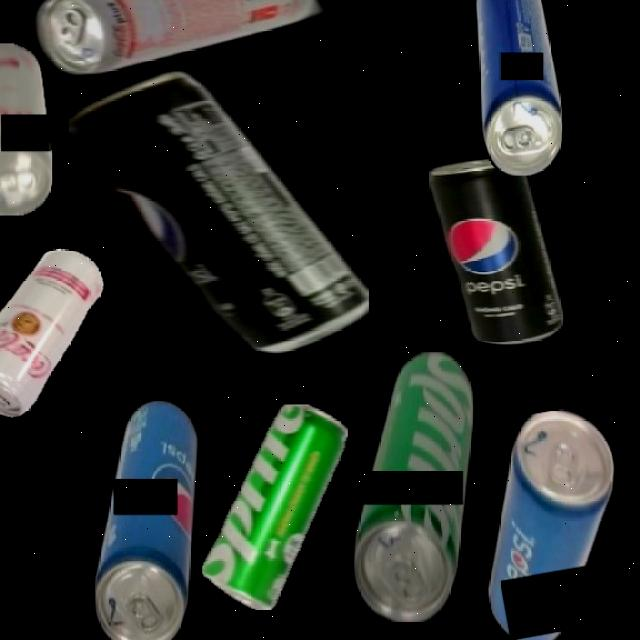debris: (68, 71, 369, 353), (459, 402, 640, 640), (352, 351, 473, 622), (201, 404, 348, 610), (92, 399, 198, 640), (428, 158, 563, 344), (0, 242, 123, 424), (34, 0, 324, 76), (474, 0, 562, 176), (0, 42, 52, 216)
